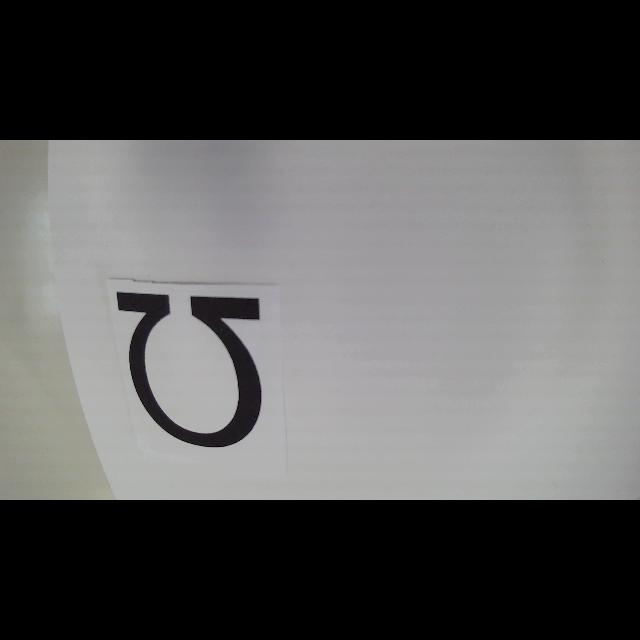OMEGA: (116, 290, 262, 448)
